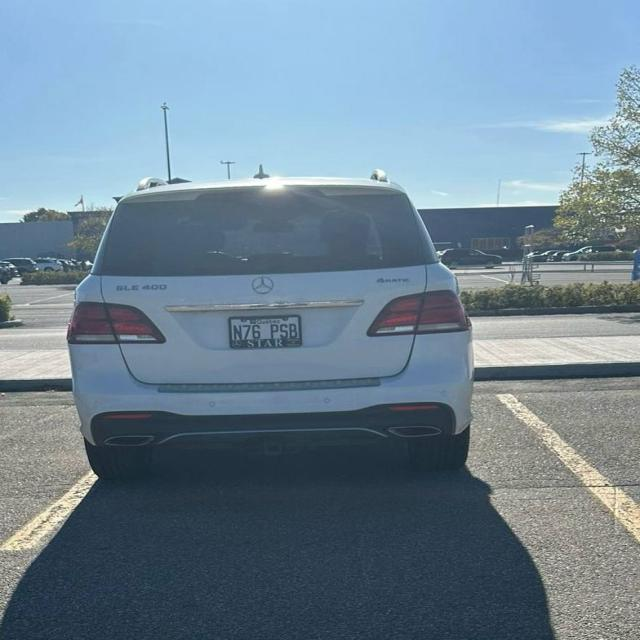plaque: (229, 316, 302, 348)
